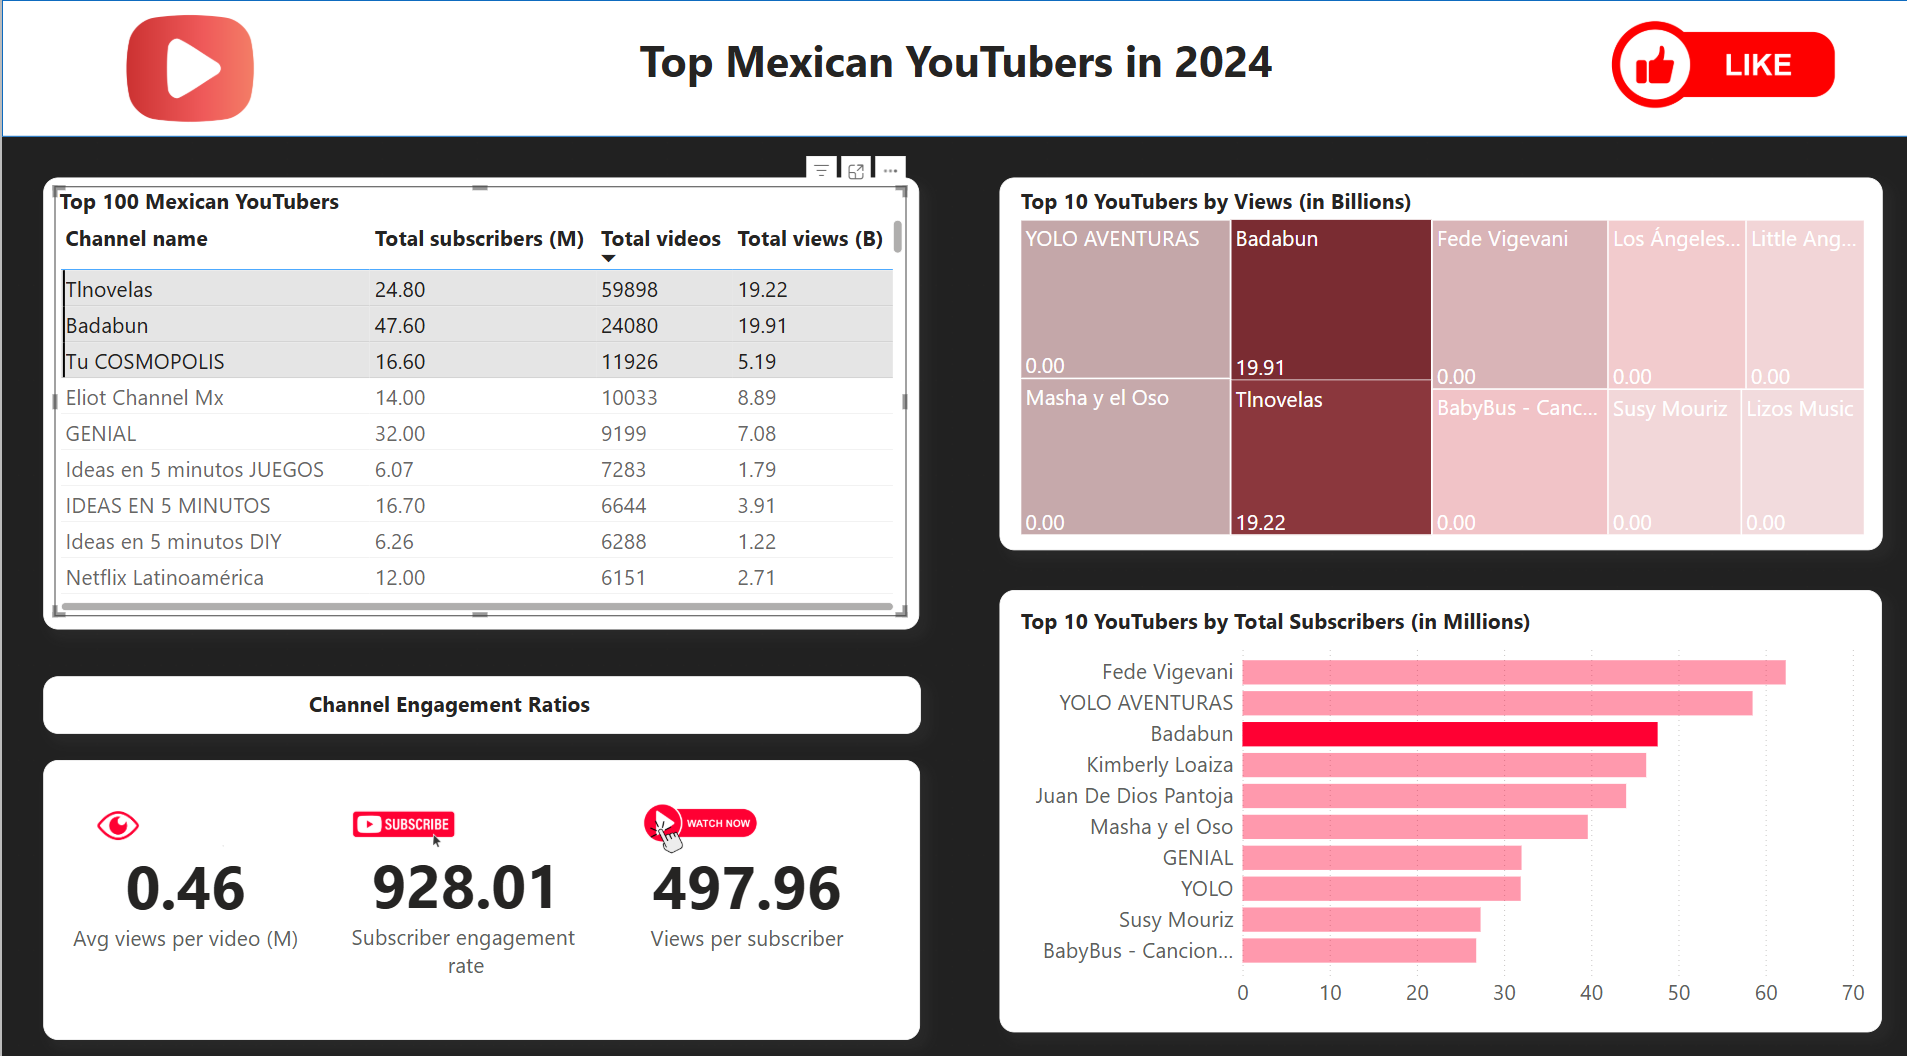

The dashboard page shown, as its layout file describes it:
{"tool":"powerbi","page":{"name":"Page 1","canvas":[1920,1080],"ordinal":0},"visuals":[{"type":"shape","title":"White rectangle","box":[0,0,1920,137.1],"z":0},{"type":"shape","title":"White rectangle","box":[41,760,877,280.2],"z":0,"group":"g1"},{"type":"shape","title":"White rectangle","box":[997,177,883,373],"z":1000},{"type":"card","title":"Views per subscriber","fields":{"Values":["_measures.Views per subscriber"]},"box":[614.6,773.3,260.3,248],"z":1000,"group":"g1"},{"type":"shape","title":"White rectangle","box":[997.3,590,882.7,442.7],"z":2000},{"type":"card","title":"Subscriber engagement rate","fields":{"Values":["_measures.Subscribers engagement rate"]},"box":[334.6,772.4,258.8,248],"z":2000,"group":"g1"},{"type":"shape","title":"White rectangle","box":[41.5,676.5,877.7,57.7],"z":3000},{"type":"card","title":"Avg views per video (M)","fields":{"Values":["_measures.Avg_views_per_video (M)"]},"box":[53,773.3,260.3,248],"z":3000,"group":"g1"},{"type":"textbox","title":"Channel Engagement Ratios","box":[297.6,684.2,300,43.1],"z":4000},{"type":"image","title":"Watch now icon","box":[614.6,797.8,167.1,62.4],"z":4000,"group":"g1"},{"type":"shape","title":"T","box":[41.8,177.3,876.4,451.8],"z":5000},{"type":"image","title":"View icon","box":[88,786.7,138.1,83.4],"z":5000,"group":"g1"},{"type":"tableEx","title":"Top 100 Mexican YouTubers","fields":{"Values":["mx_youtubers_data2024.channel_name","_measures.Total_subscribers (M)","_measures.Total_videos","_measures.Total_views (B)"]},"box":[52.7,186.4,852.7,430],"z":6000},{"type":"image","title":"Subscribe icon","box":[320.4,803.7,162.7,49],"z":6000,"group":"g1"},{"type":"treemap","title":"Top 10 YouTubers by Views (in Billions)","fields":{"Group":["mx_youtubers_data2024.channel_name"],"Values":["_measures.Total views (B)"]},"box":[1014,186,854,354],"z":7000},{"type":"clusteredBarChart","title":"Top 10 YouTubers by Total Subscribers (in Millions)","fields":{"Category":["mx_youtubers_data2024.channel_name"],"Y":["_measures.Total subscribers (M)"]},"box":[1014.3,605.7,854.3,411.4],"z":8000},{"type":"group","id":"g1","title":"Group 1","box":[41,760,877,281],"z":9000},{"type":"textbox","box":[611.4,25.7,697.1,85.7],"z":10000},{"type":"image","box":[0,0,370,137.1],"z":11000},{"type":"image","box":[1522.9,0,397.1,137.1],"z":12000}]}

Visuals, with their boxes in screenshot pixels (x1, y1, x2, y2), scaled from the page's 1920x1080 canvas onto the 1907x1056 screenshot:
"White rectangle" shape: {"left": 0, "top": 0, "right": 1906, "bottom": 134}
"White rectangle" shape: {"left": 41, "top": 743, "right": 912, "bottom": 1017}
"White rectangle" shape: {"left": 990, "top": 173, "right": 1867, "bottom": 538}
"Views per subscriber" card: {"left": 610, "top": 756, "right": 869, "bottom": 999}
"White rectangle" shape: {"left": 991, "top": 577, "right": 1867, "bottom": 1010}
"Subscriber engagement rate" card: {"left": 332, "top": 755, "right": 589, "bottom": 998}
"White rectangle" shape: {"left": 41, "top": 661, "right": 913, "bottom": 718}
"Avg views per video (M)" card: {"left": 53, "top": 756, "right": 311, "bottom": 999}
"Channel Engagement Ratios" textbox: {"left": 296, "top": 669, "right": 594, "bottom": 711}
"Watch now icon" image: {"left": 610, "top": 780, "right": 776, "bottom": 841}
"T" shape: {"left": 42, "top": 173, "right": 912, "bottom": 615}
"View icon" image: {"left": 87, "top": 769, "right": 225, "bottom": 851}
"Top 100 Mexican YouTubers" tableEx: {"left": 52, "top": 182, "right": 899, "bottom": 603}
"Subscribe icon" image: {"left": 318, "top": 786, "right": 480, "bottom": 834}
"Top 10 YouTubers by Views (in Billions)" treemap: {"left": 1007, "top": 182, "right": 1855, "bottom": 528}
"Top 10 YouTubers by Total Subscribers (in Millions)" clusteredBarChart: {"left": 1007, "top": 592, "right": 1856, "bottom": 994}
"Group 1" group: {"left": 41, "top": 743, "right": 912, "bottom": 1018}
textbox: {"left": 607, "top": 25, "right": 1300, "bottom": 109}
image: {"left": 0, "top": 0, "right": 367, "bottom": 134}
image: {"left": 1513, "top": 0, "right": 1906, "bottom": 134}
